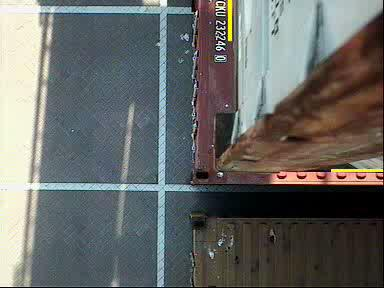groundmarker_2: (49, 131, 133, 187)
